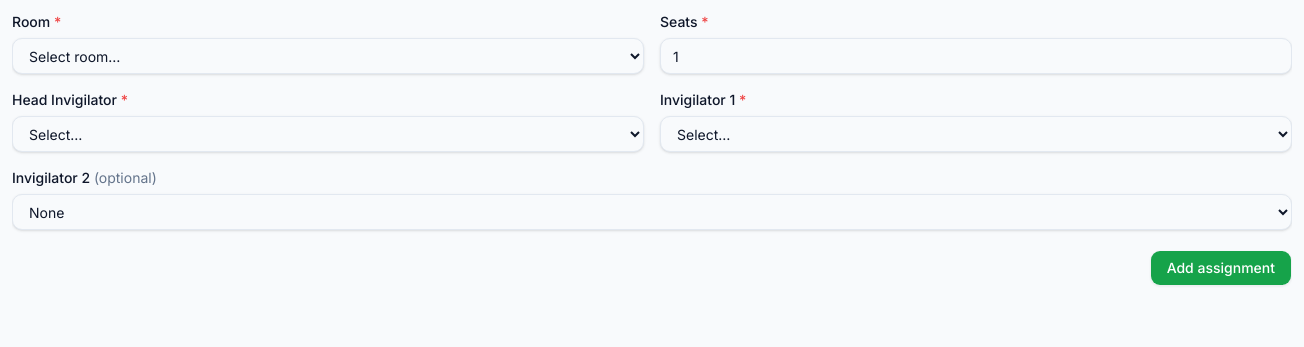
Test: AssignmentForm › form validation › shows error when room is not selected on submit
Step 1. Click the button "Add assignment" → (1221, 268), box [1150,250,1292,286]
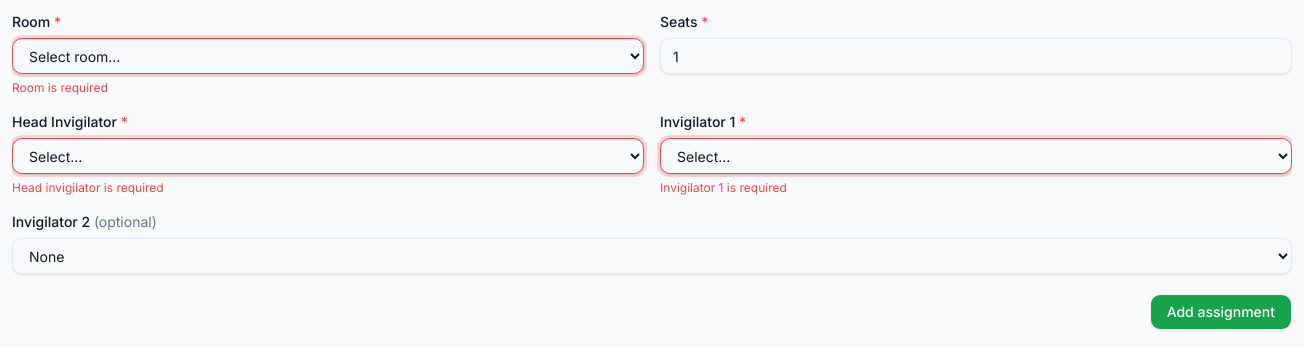
Now the text "Room is required" is shown, box [12,80,108,95]
